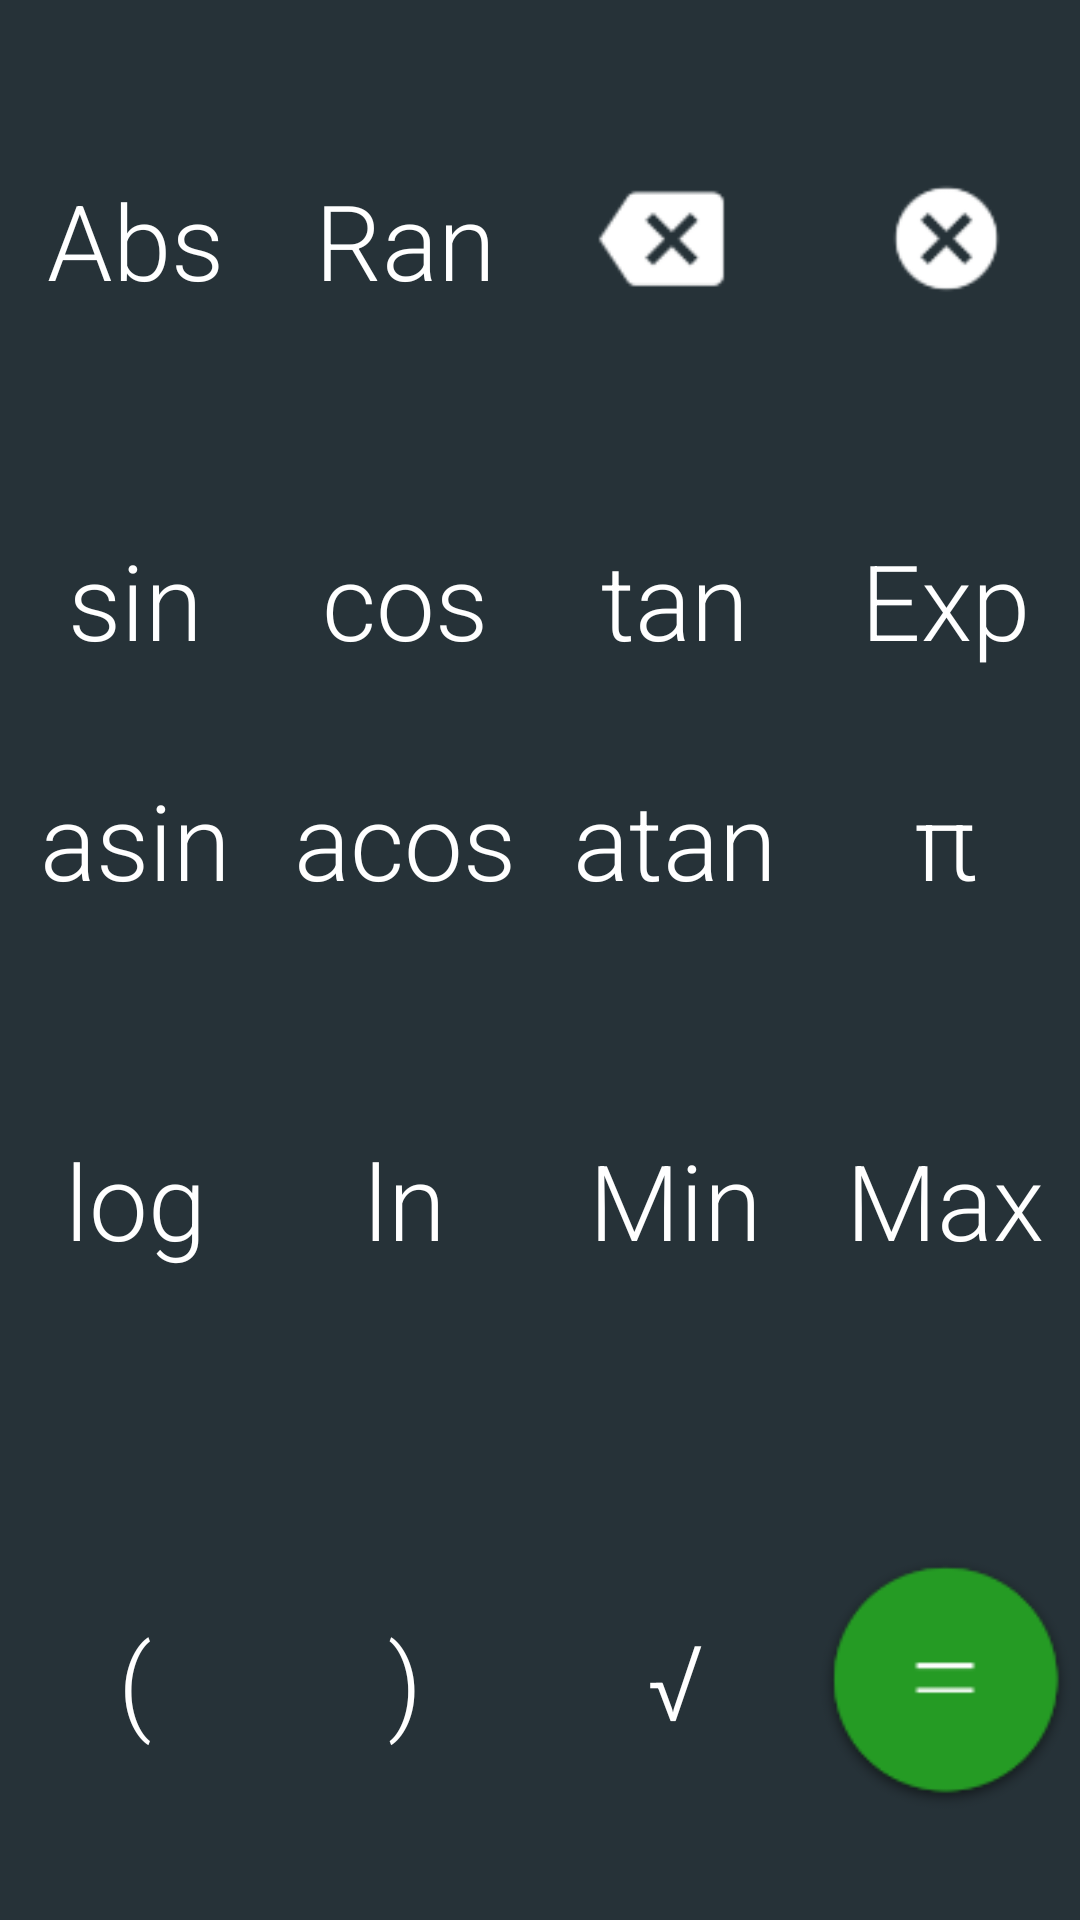

Icon bounding boxes for this 1080 x 1920 phone screenshot, format Rect(x1, y1, x2, y2):
backspace: Rect(598, 191, 725, 287)
clear: Rect(895, 186, 999, 290)
